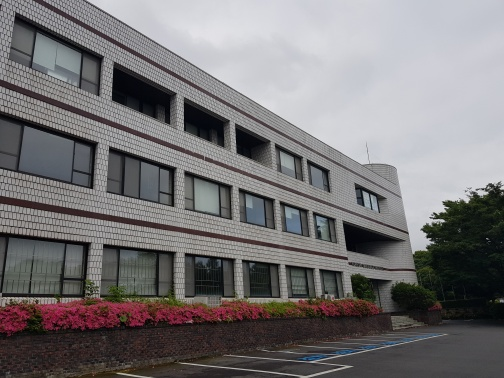Foreign Language Institute: (6, 3, 432, 334), (102, 137, 312, 244)
